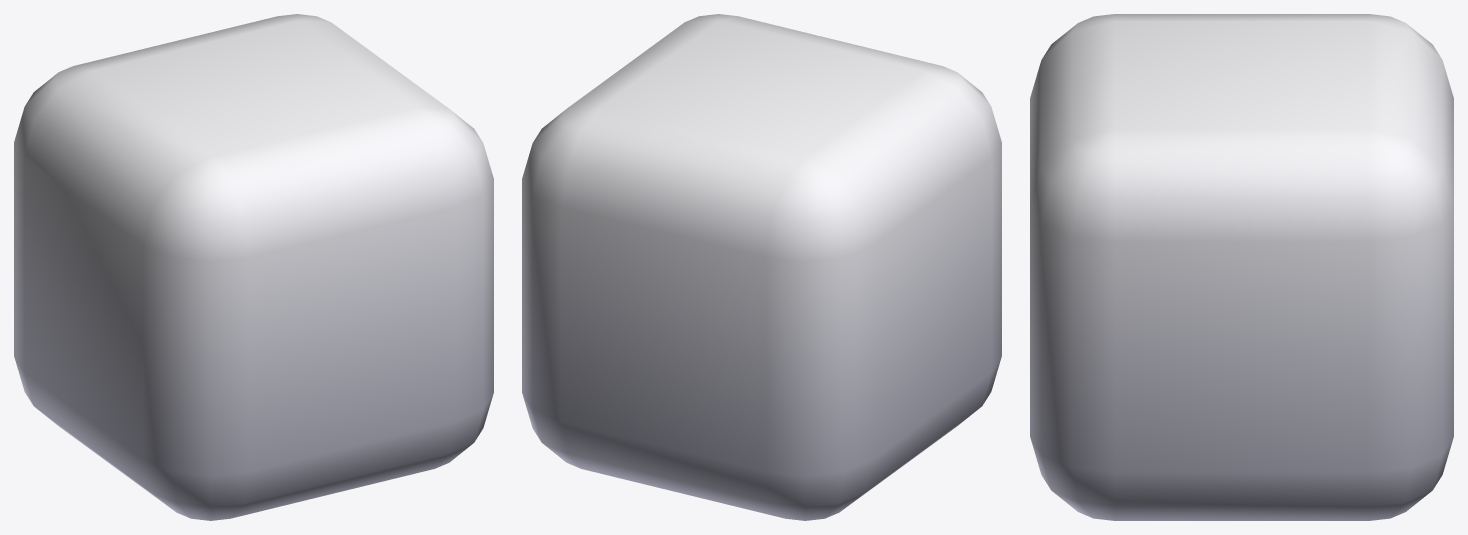
Rendered from cloud.glb.
3 renders of one model, left to right at view 1: azimuth 30°, elevation 25°; view 2: azimuth 150°, elevation 25°; view 3: azimuth 270°, elevation 25°, orthographic. The views are drawn at different scales.
Parts seen in each view (by area): view 1: cube; view 2: cube; view 3: cube.
Boxes of the visible parts, <box> form: cube: <box>14,14,493,520</box>; cube: <box>522,14,1001,520</box>; cube: <box>1030,14,1453,520</box>.
Size of the model in its own units: 1 by 1 by 1.
1 material, 1 textured.
